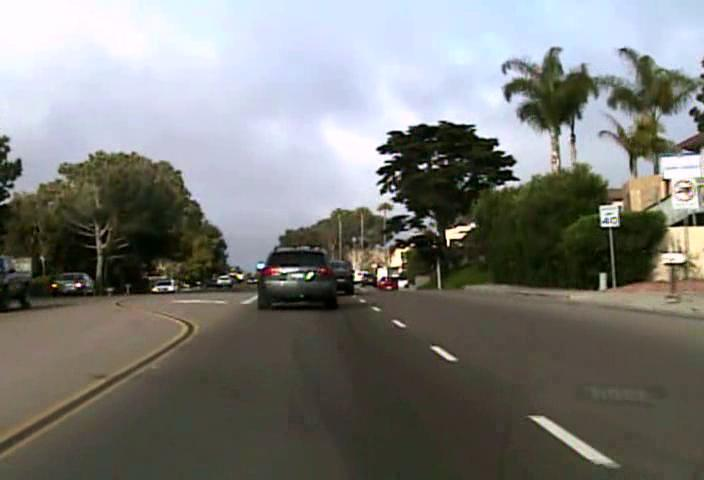speedLimit40: (599, 203, 620, 227)
